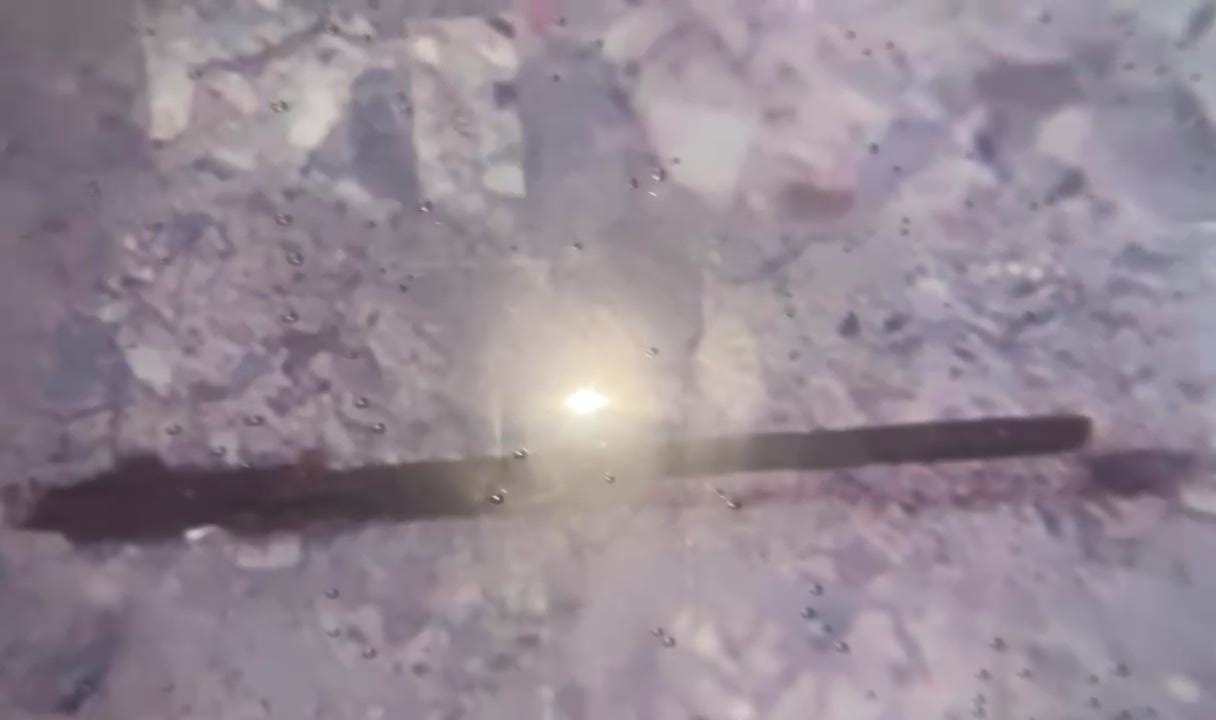Exposed reinforcement: (15, 414, 1091, 547)
